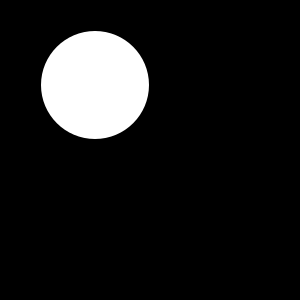rectangle: (41, 31, 149, 139)
